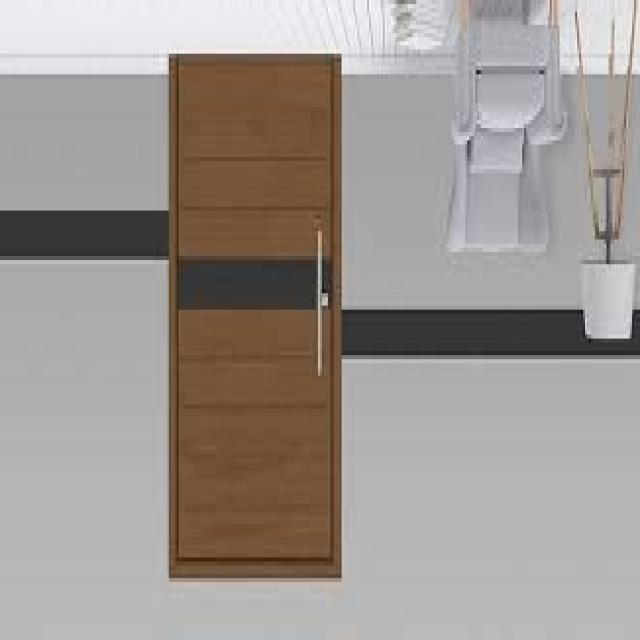door: (168, 52, 342, 580)
